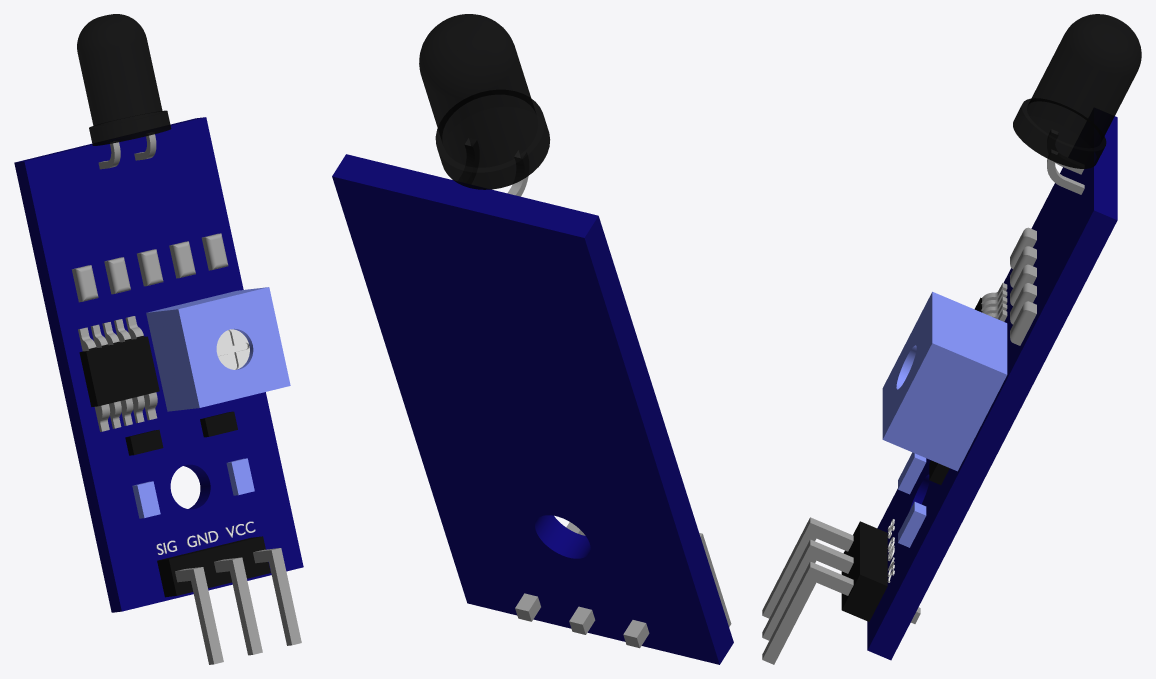
File: 33. FLAME SENSOR.gltf
3 renders of one model, left to right at view 1: azimuth 30°, elevation 25°; view 2: azimuth 150°, elevation 25°; view 3: azimuth 270°, elevation 25°, orthographic. The views are drawn at different scales.
Visible parts, largest first — view 1: Text.013; view 2: Text.013; view 3: Text.013.
Part boxes in pixels (x1,y1,x2,y2): Text.013: [14, 14, 303, 664]; Text.013: [332, 14, 733, 664]; Text.013: [762, 14, 1141, 664].
Size of the model in its own units: 0.0123 by 0.0346 by 0.0192.
